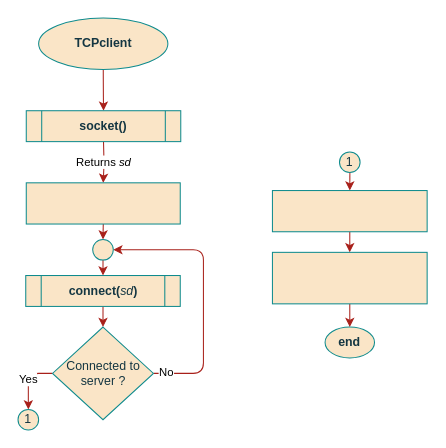
The diagram is 446 pixels wide and 448 high, and some of its shapes have lost their labels. Here are the shapes that lost their labels. From the top down, the box of each, then its label:
(25, 182, 180, 224): Create and initialize socket address
(271, 190, 427, 232): Create tx_msgs
(271, 251, 427, 304): Init mutComm Init mutSend Create condSend
